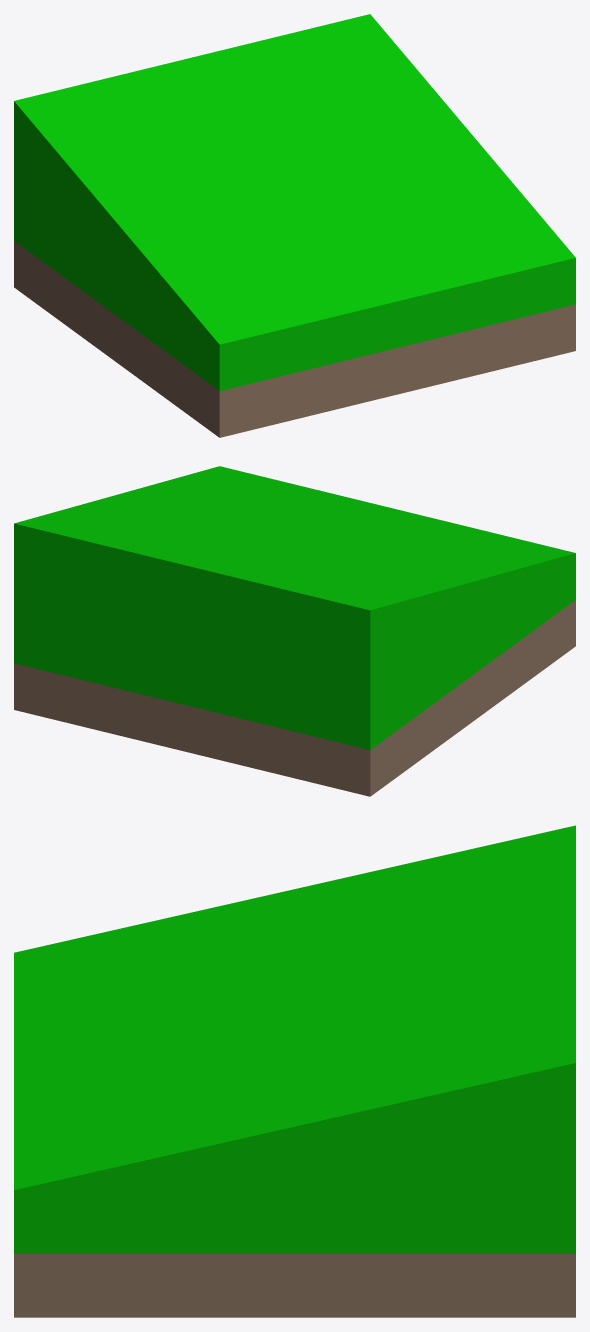
File: GramaAlta.fbx
The picture shows the model from 3 angles, top to bottom: view 1: azimuth 30°, elevation 25°; view 2: azimuth 150°, elevation 25°; view 3: azimuth 270°, elevation 25°; orthographic projection. The views are drawn at different scales.
Parts seen in each view (by area): view 1: GramaAlta; view 2: GramaAlta; view 3: GramaAlta.
Part boxes in pixels (x1=…): GramaAlta: x1=14, y1=14, x2=575, y2=437; GramaAlta: x1=14, y1=466, x2=575, y2=796; GramaAlta: x1=14, y1=825, x2=575, y2=1317.
Size of the model in its own units: 8 by 4 by 8.
